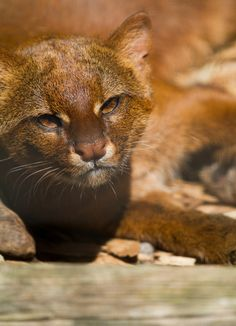Jaguarundi: (10, 7, 218, 267)
